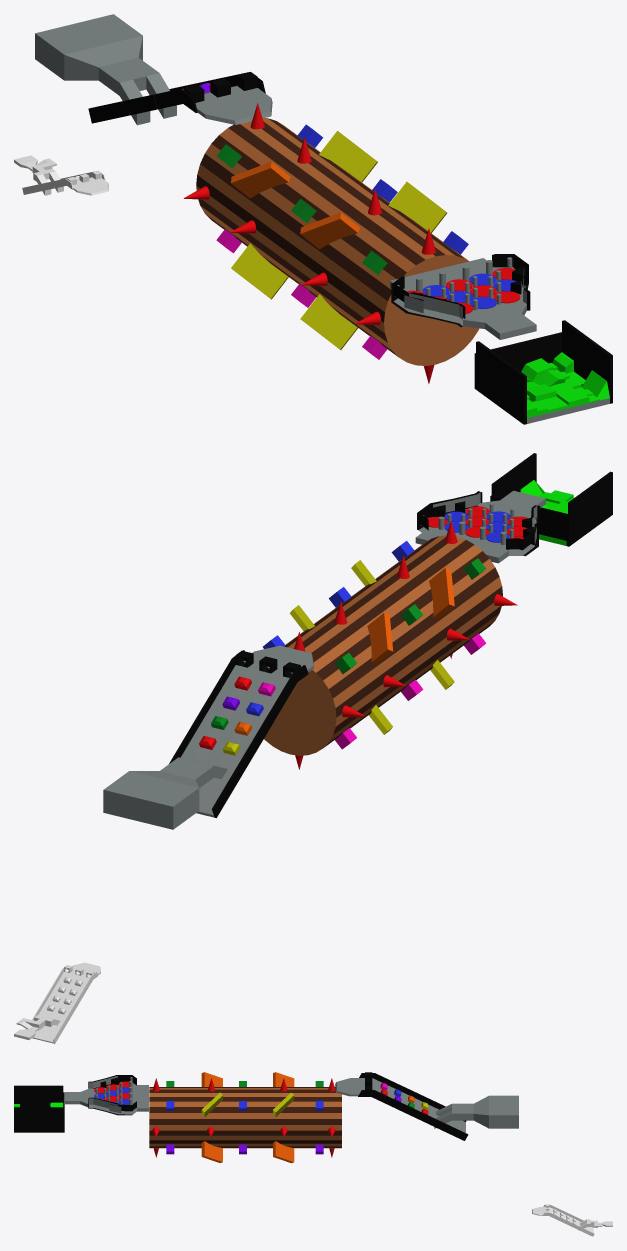
The model's file is spawn_and_ball_ramp_v2.fbx.
3 views of the same model, one above another, from view 1: azimuth 30°, elevation 25°; view 2: azimuth 150°, elevation 25°; view 3: azimuth 270°, elevation 25° (orthographic). The views are drawn at different scales.
Parts seen in each view (by area): view 1: Cube, Ball_Ramp, Plane, rotation_platform, Ball_Ramp.001; view 2: Cube, Ball_Ramp, Plane, rotation_platform, Ball_Ramp.001; view 3: Cube, Ball_Ramp, Plane, rotation_platform, Ball_Ramp.001.
Part boxes in pixels (bbox=[...]): Cube: bbox=[183, 103, 479, 383]; Ball_Ramp: bbox=[35, 14, 272, 125]; Plane: bbox=[474, 320, 612, 424]; rotation_platform: bbox=[390, 254, 536, 339]; Ball_Ramp.001: bbox=[14, 155, 108, 195]; Cube: bbox=[263, 520, 517, 769]; Ball_Ramp: bbox=[103, 645, 314, 829]; Plane: bbox=[490, 453, 612, 546]; rotation_platform: bbox=[415, 490, 545, 563]; Ball_Ramp.001: bbox=[14, 962, 100, 1043]; Cube: bbox=[149, 1072, 341, 1163]; Ball_Ramp: bbox=[335, 1072, 518, 1140]; Plane: bbox=[14, 1085, 64, 1132]; rotation_platform: bbox=[65, 1075, 148, 1115]; Ball_Ramp.001: bbox=[532, 1204, 612, 1236].
Size of the model in its own units: 5135 by 9191 by 34263.
